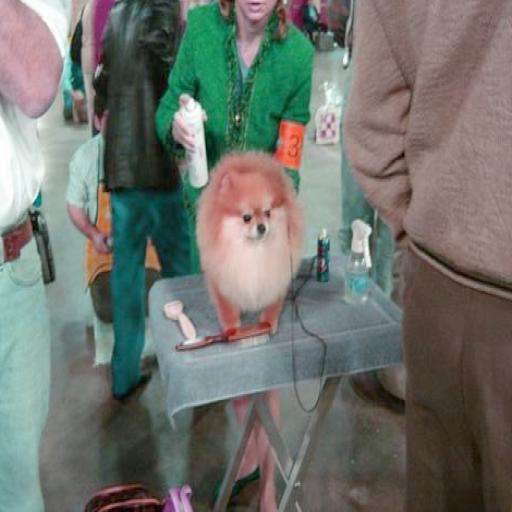dog_face: (206, 151, 296, 255)
